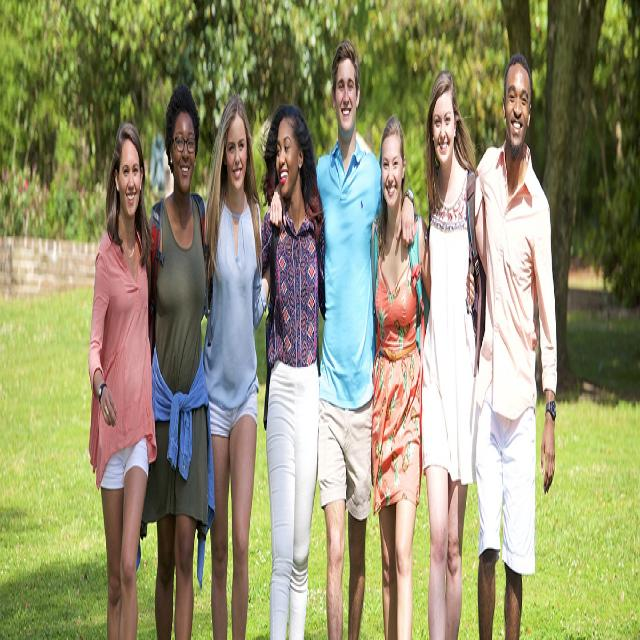body: (268, 38, 418, 640), (369, 104, 481, 638), (468, 48, 559, 640), (418, 71, 488, 639), (201, 92, 273, 640), (84, 116, 159, 640), (259, 98, 327, 640), (148, 81, 210, 640)
